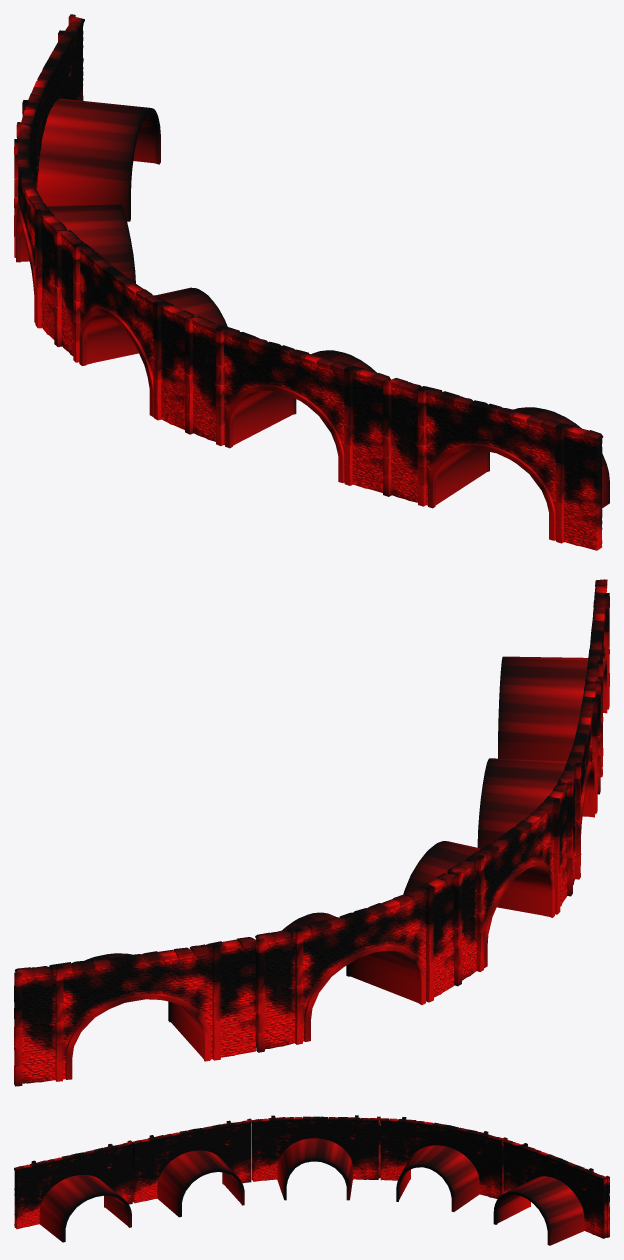
Rendered from SM_ArchWall_01_Splines_22.fbx.
The picture shows the model from 3 angles, top to bottom: view 1: azimuth 30°, elevation 25°; view 2: azimuth 150°, elevation 25°; view 3: azimuth 270°, elevation 25°; orthographic projection. The views are drawn at different scales.
Parts seen in each view (by area): view 1: SM_ArchWall_01_Splines_22_LOD0; view 2: SM_ArchWall_01_Splines_22_LOD0; view 3: SM_ArchWall_01_Splines_22_LOD0.
Part boxes in pixels (x1=…): SM_ArchWall_01_Splines_22_LOD0: x1=14, y1=14, x2=609, y2=550; SM_ArchWall_01_Splines_22_LOD0: x1=14, y1=579, x2=609, y2=1086; SM_ArchWall_01_Splines_22_LOD0: x1=14, y1=1115, x2=609, y2=1245.
Size of the model in its own units: 3076 by 11117 by 1266.
